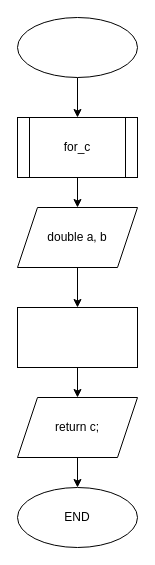
This 155x565 diagram has some shape labels left out. Here are the shapes that lost their labels. From the top down, the box of each, then its label:
(16, 16, 138, 78): START
(16, 306, 138, 368): double c = (a + b) / 2;
